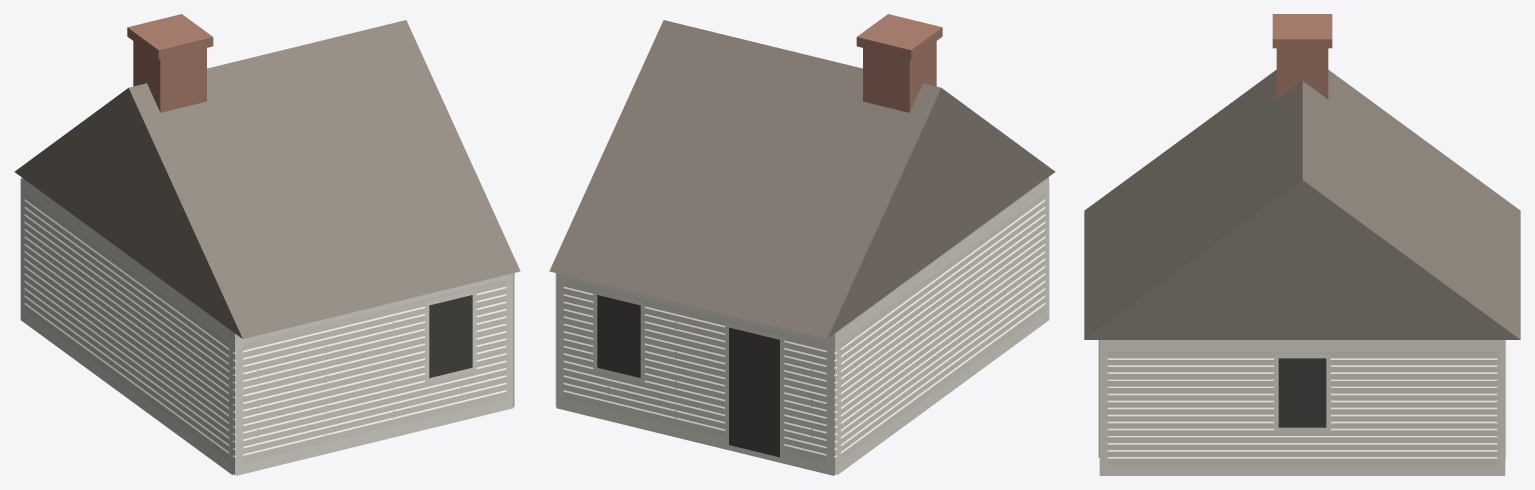
Rendered from recon_1835_blk_randolph_clinton_d3_09__inferred_1835.glb.
3 renders of one model, left to right at view 1: azimuth 30°, elevation 25°; view 2: azimuth 150°, elevation 25°; view 3: azimuth 270°, elevation 25°, orthographic. The views are drawn at different scales.
Parts seen in each view (by area): view 1: recon_1835_blk_randolph_clinton_d3_09__inferred_1835; view 2: recon_1835_blk_randolph_clinton_d3_09__inferred_1835; view 3: recon_1835_blk_randolph_clinton_d3_09__inferred_1835.
Part boxes in pixels (x1,y1,x2,y2): recon_1835_blk_randolph_clinton_d3_09__inferred_1835: (14,14,520,475); recon_1835_blk_randolph_clinton_d3_09__inferred_1835: (549,14,1055,475); recon_1835_blk_randolph_clinton_d3_09__inferred_1835: (1084,14,1520,475).
Bounding box in the file's own units: 5.08 × 6.1 × 7.12.
